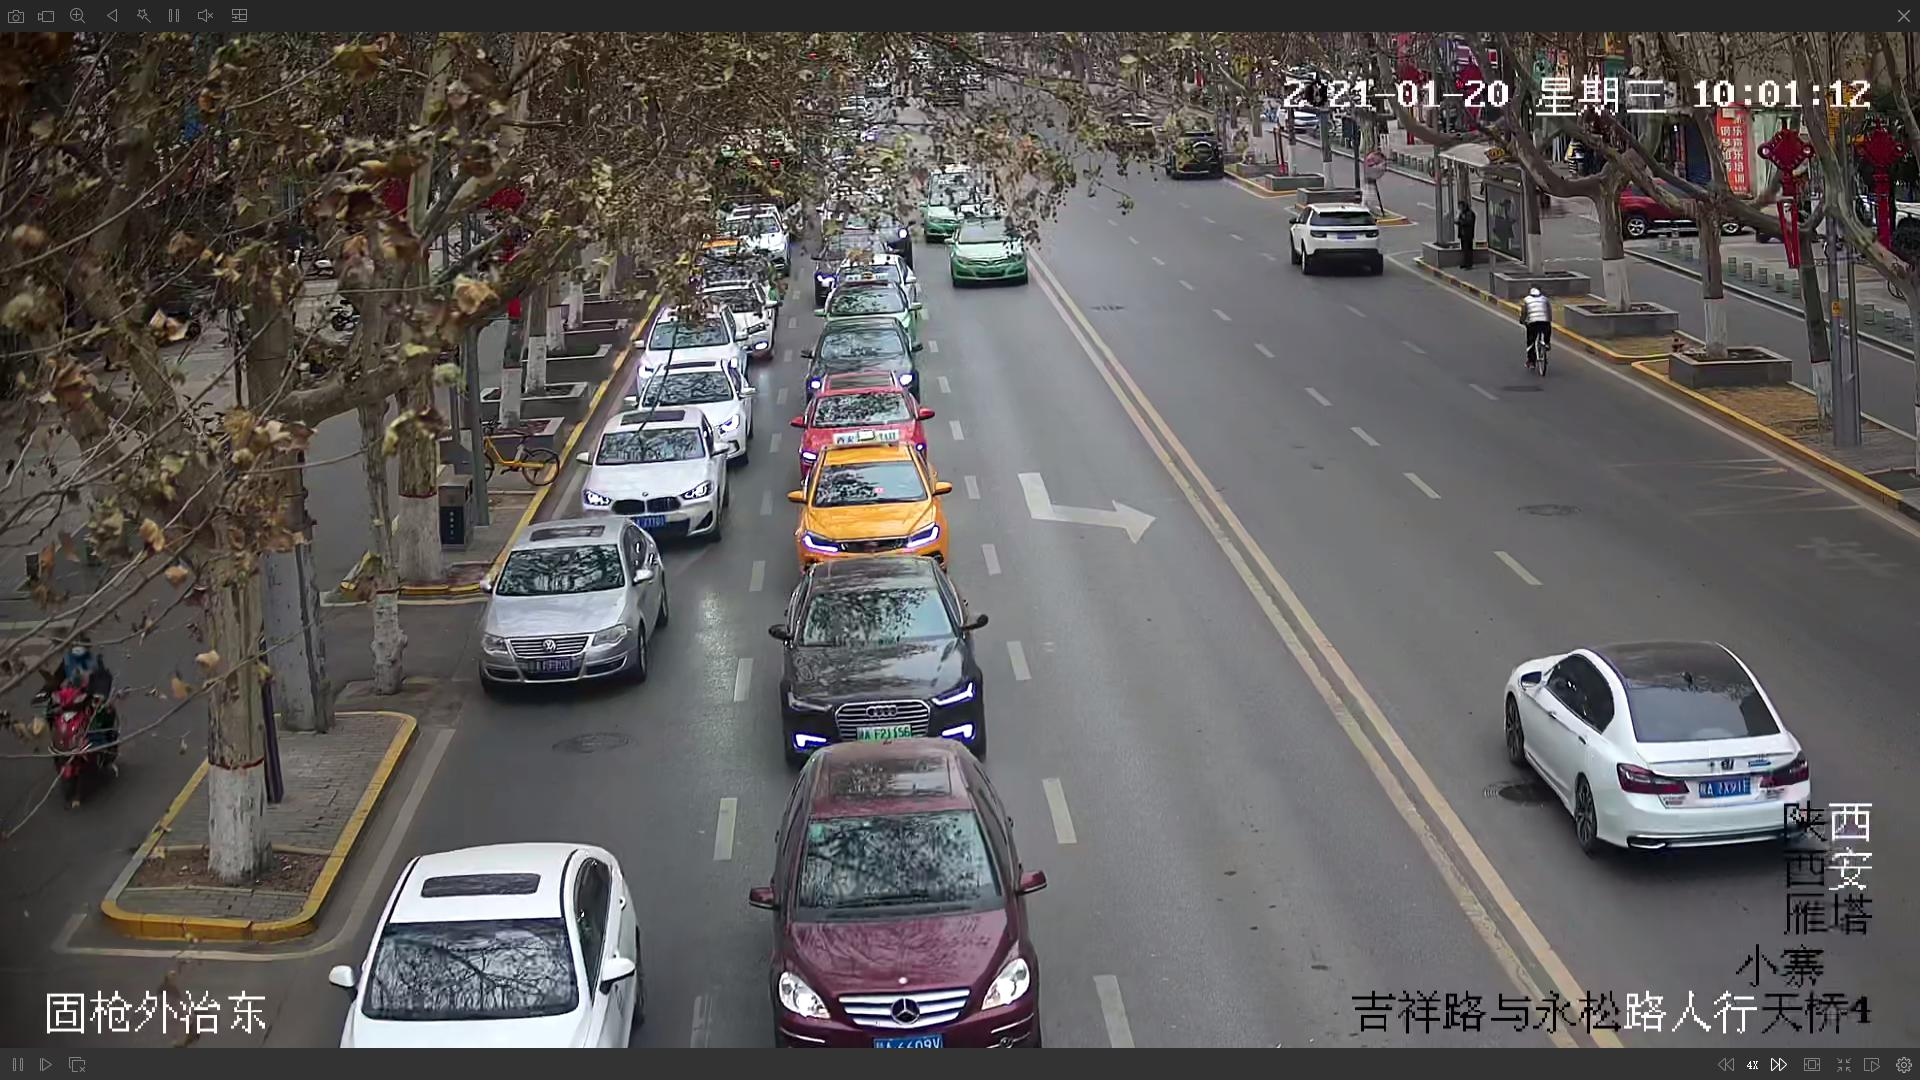black: (775, 558, 992, 752)
dark-red: (745, 738, 1054, 1046)
orange: (790, 434, 957, 568)
silver-gray: (476, 516, 657, 687)
white: (1495, 647, 1811, 866), (330, 837, 641, 1046)
